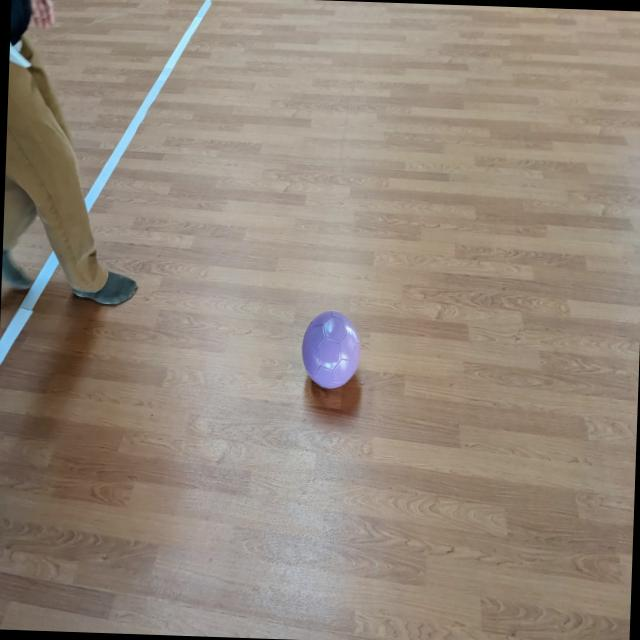purple_ball: (300, 308, 362, 390)
